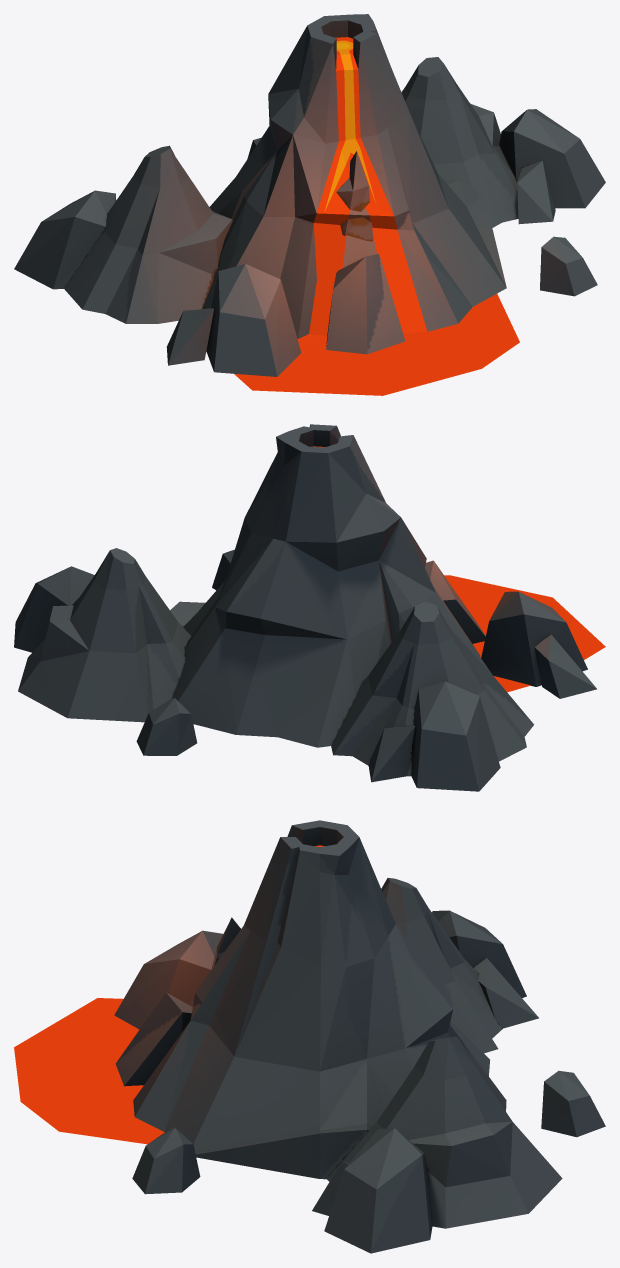
File: VULCAOOO.fbx
The picture shows the model from 3 angles, top to bottom: view 1: azimuth 30°, elevation 25°; view 2: azimuth 150°, elevation 25°; view 3: azimuth 270°, elevation 25°; orthographic projection. The views are drawn at different scales.
Visible parts, largest first — view 1: volcano, volcano.001; view 2: volcano, volcano.001; view 3: volcano, volcano.001.
Part boxes in pixels (x1,y1,x2,y2): volcano: [14, 14, 605, 376]; volcano.001: [234, 37, 519, 395]; volcano: [14, 424, 596, 791]; volcano.001: [313, 446, 605, 692]; volcano: [114, 820, 605, 1253]; volcano.001: [14, 845, 324, 1144].
Bounding box in the file's own units: 706 × 313 × 620.
